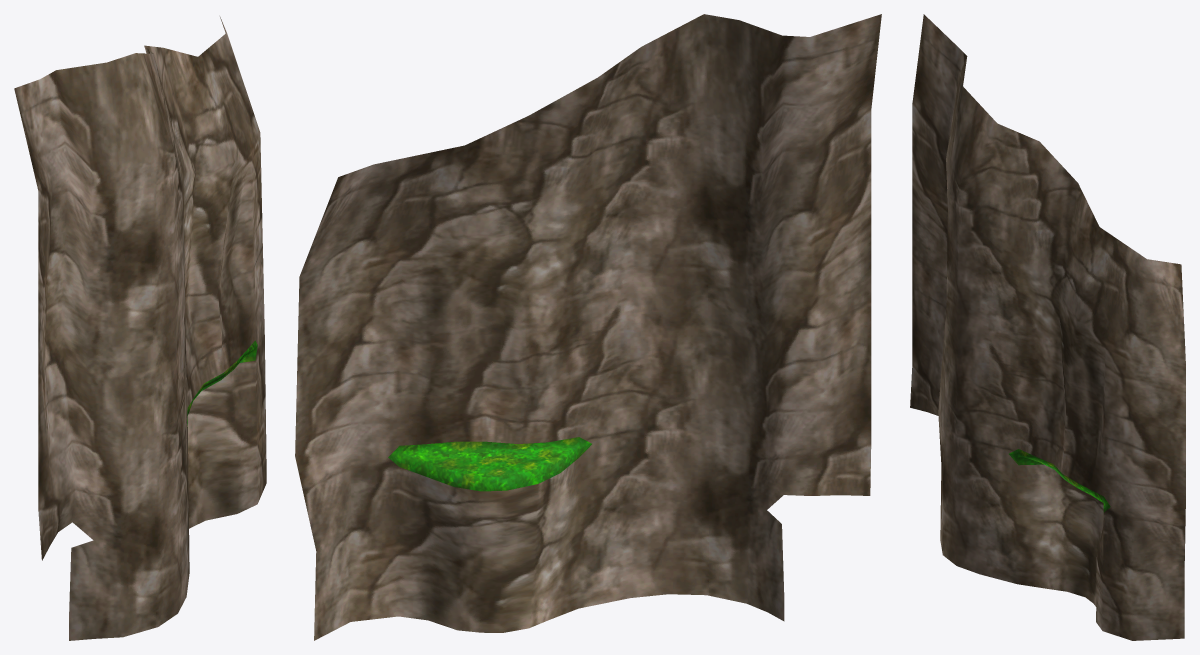
File: EKH_ENTRANCE_PS_EN_WALL_CHUNK464__GX.fbx
3 renders of one model, left to right at view 1: azimuth 30°, elevation 25°; view 2: azimuth 150°, elevation 25°; view 3: azimuth 270°, elevation 25°, orthographic. The views are drawn at different scales.
Visible parts, largest first — view 1: EKH_ENTRANCE_PS_EN_WALL_CHUNK464__GX; view 2: EKH_ENTRANCE_PS_EN_WALL_CHUNK464__GX; view 3: EKH_ENTRANCE_PS_EN_WALL_CHUNK464__GX.
Part boxes in pixels (box(x1,y1,x2,y2)): EKH_ENTRANCE_PS_EN_WALL_CHUNK464__GX: box(14, 17, 266, 640); EKH_ENTRANCE_PS_EN_WALL_CHUNK464__GX: box(295, 14, 881, 640); EKH_ENTRANCE_PS_EN_WALL_CHUNK464__GX: box(910, 14, 1185, 640).
Size of the model in its own units: 111397 by 155476 by 81138.
2 materials, 2 textured.
